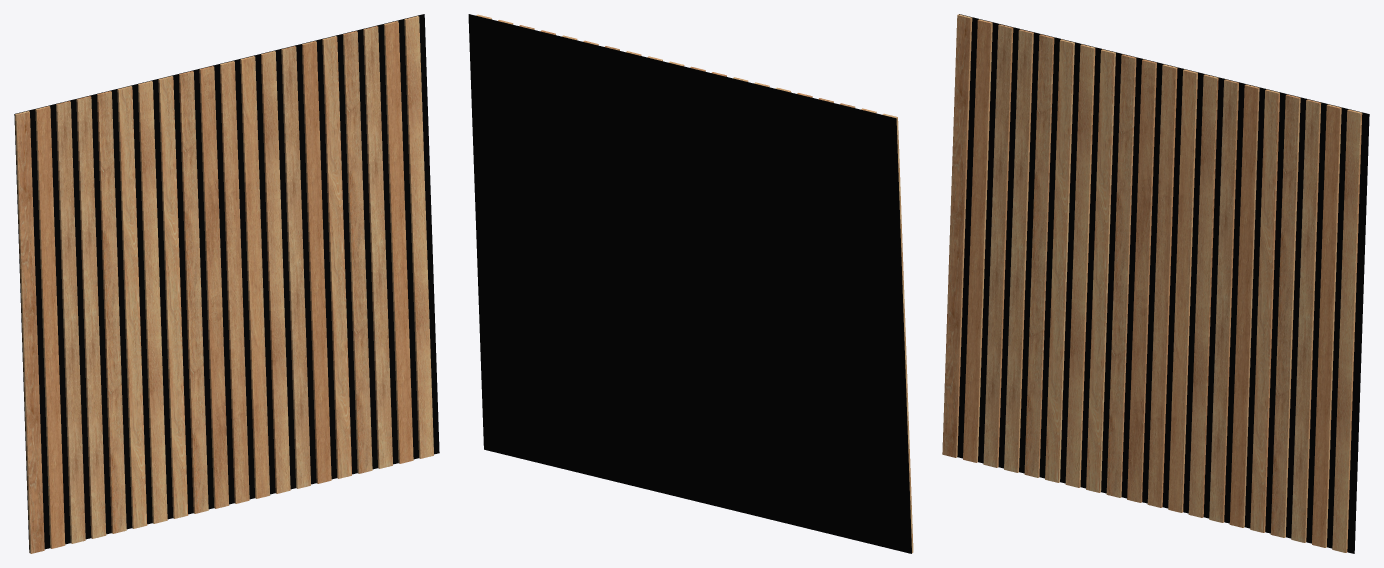
3 renders of one model, left to right at view 1: azimuth 30°, elevation 25°; view 2: azimuth 150°, elevation 25°; view 3: azimuth 330°, elevation 25°, orthographic. The views are drawn at different scales.
Visible parts, largest first — view 1: Acoustic wood_block; view 2: Acoustic wood_block; view 3: Acoustic wood_block.
Part boxes in pixels (box(x1,y1,x2,y2)): Acoustic wood_block: box(14, 14, 439, 553); Acoustic wood_block: box(468, 14, 913, 553); Acoustic wood_block: box(942, 14, 1369, 553).
Bounding box in the file's own units: 2 × 2 × 0.1413.
3 materials, 2 textured.
